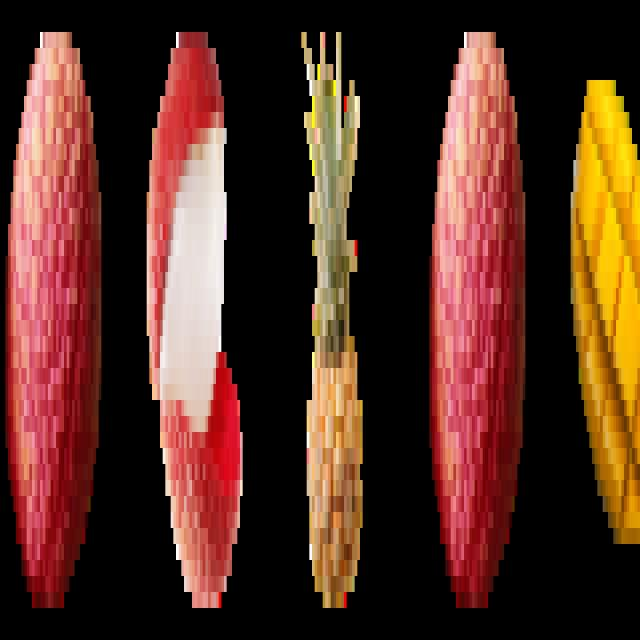lychee: (4, 12, 106, 622), (144, 19, 246, 616), (427, 23, 527, 621)
pineapples: (301, 16, 370, 625)
